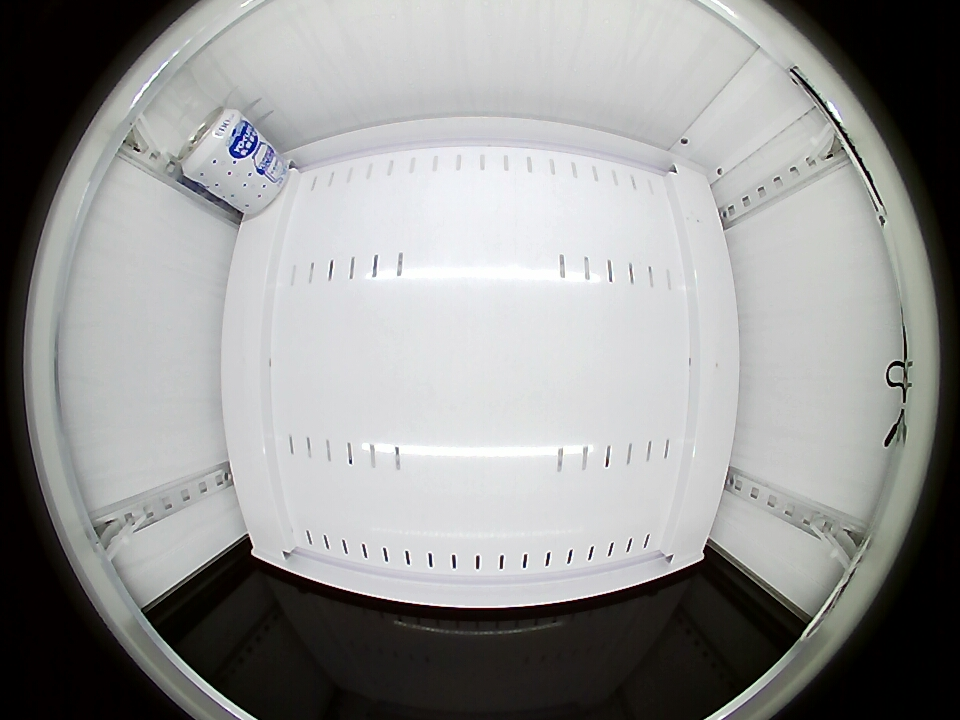rusuanjunqishui: (177, 108, 254, 185)
